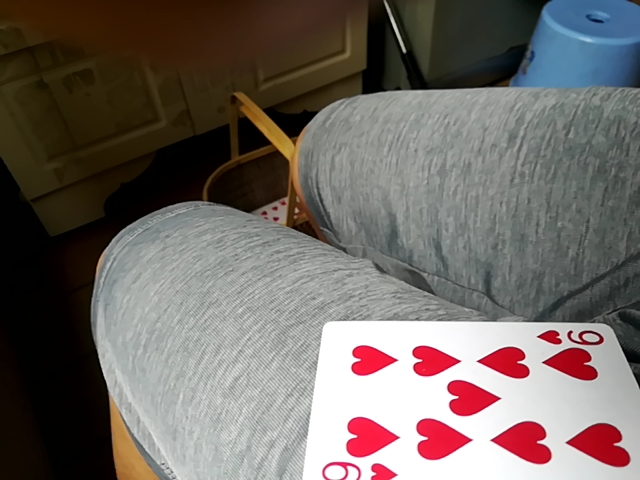hx 9: (304, 316, 638, 478)
